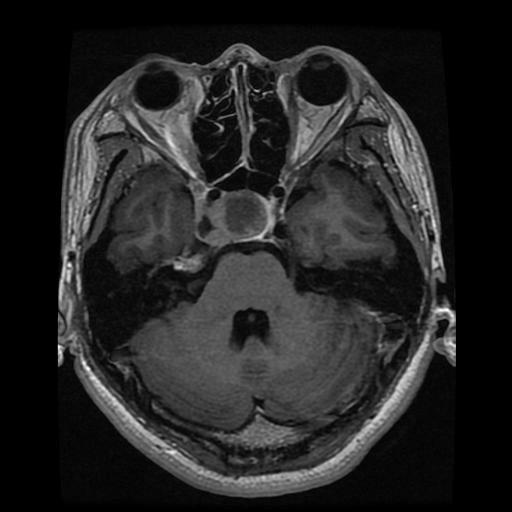Tumour-Pituitary: (194, 182, 292, 253)
